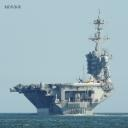Portanaves: (10, 8, 117, 118)
